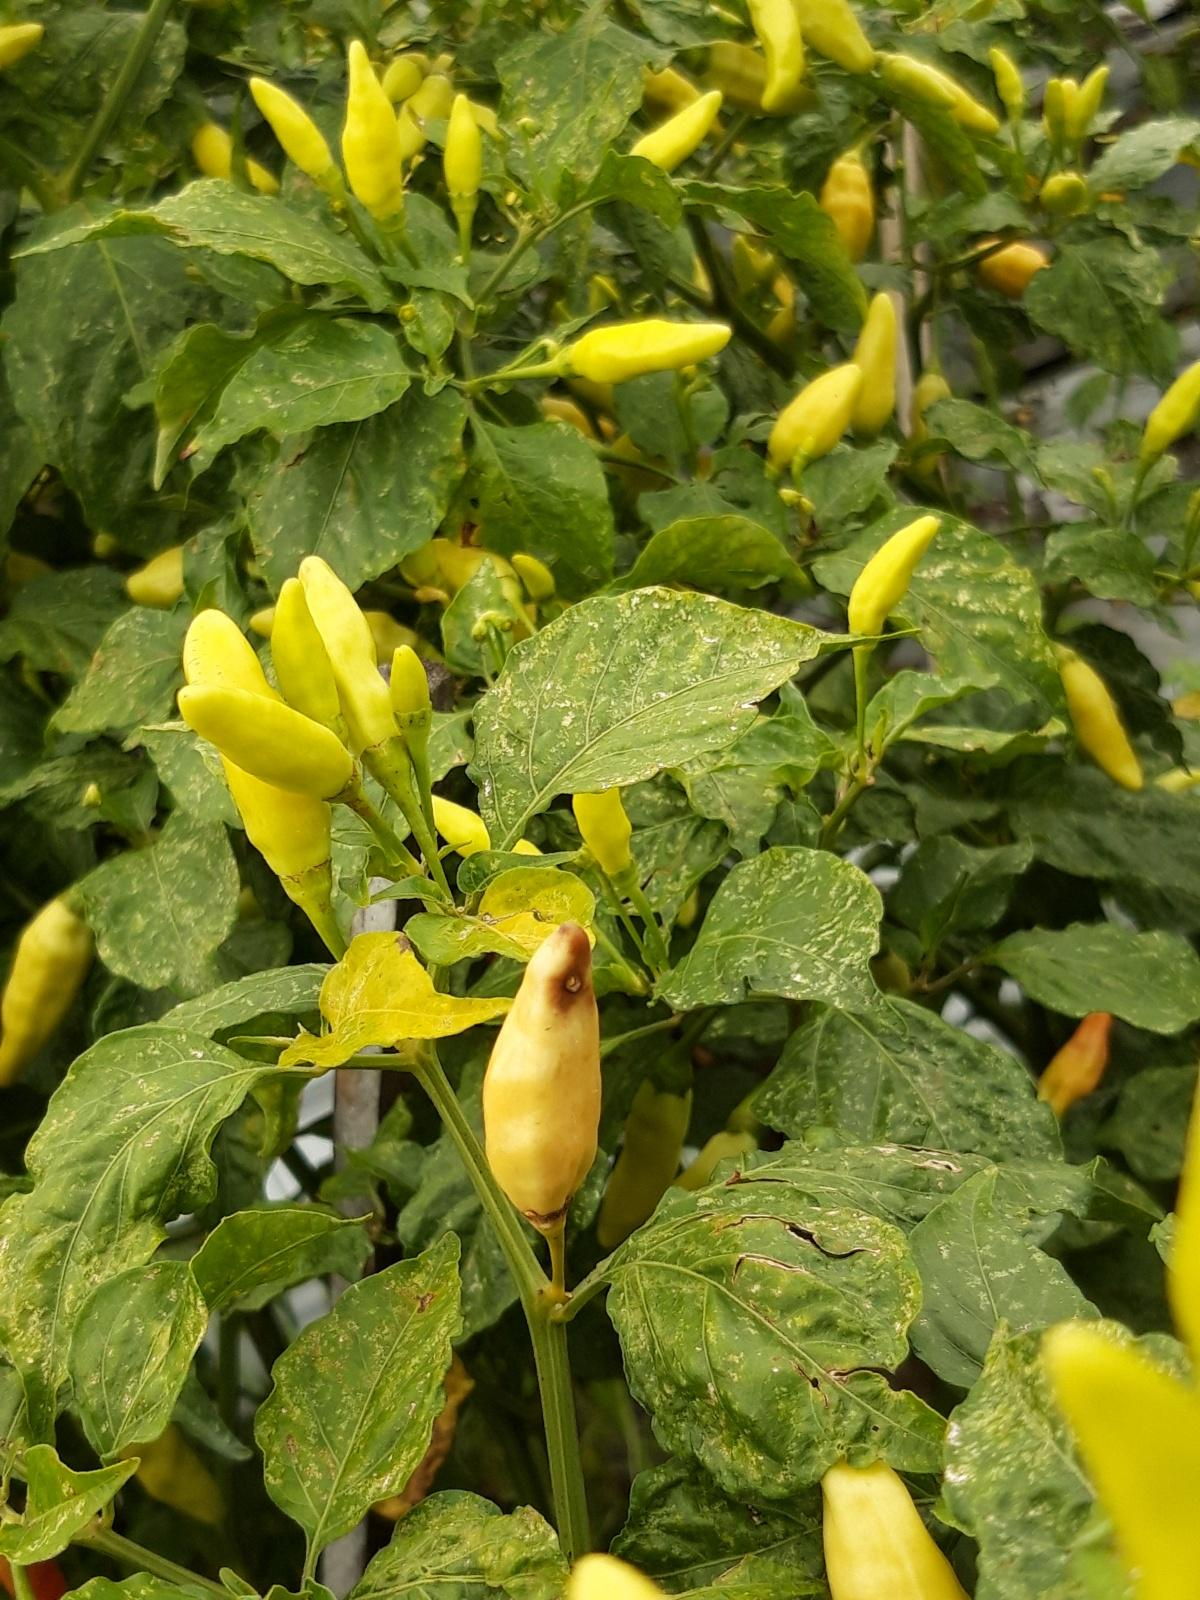cabai_normal: (182, 606, 333, 903), (296, 553, 413, 792), (176, 683, 363, 813), (3, 891, 95, 1094), (845, 514, 944, 663), (270, 578, 349, 757), (1051, 643, 1143, 792), (342, 38, 407, 220), (765, 364, 866, 477), (551, 319, 734, 380), (1035, 1007, 1113, 1123), (630, 89, 725, 183), (250, 76, 332, 176), (852, 292, 900, 443), (442, 94, 482, 213)
lalat_buah: (482, 918, 604, 1240)
